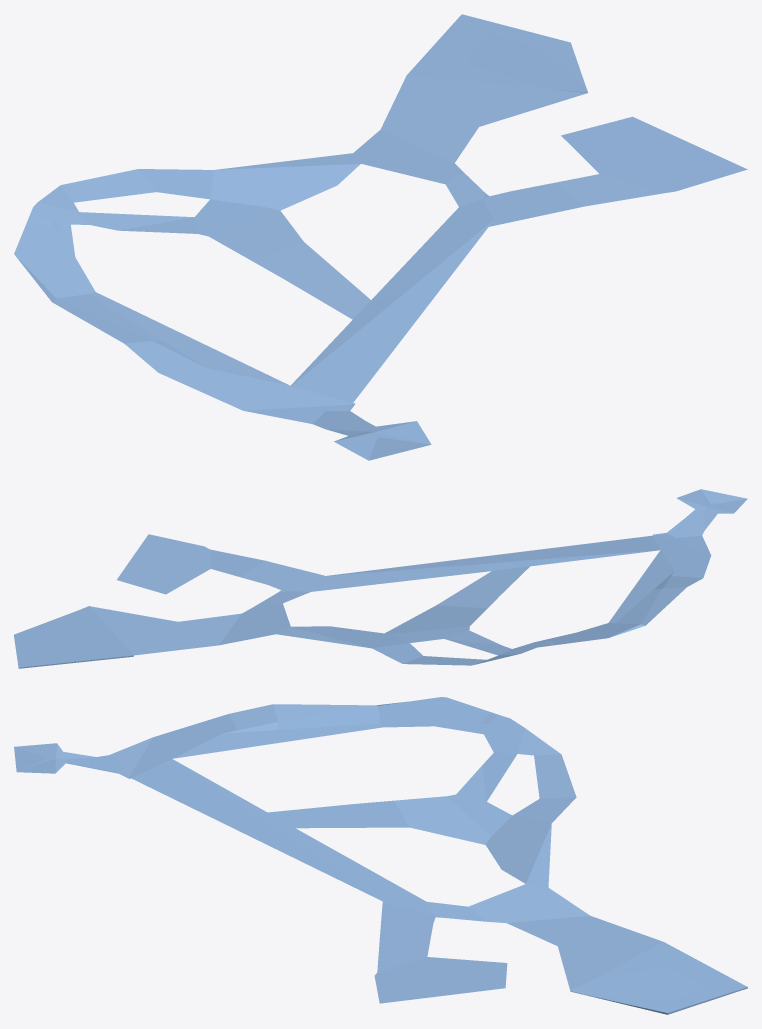
The model's file is navmesh.glb.
The picture shows the model from 3 angles, top to bottom: view 1: azimuth 30°, elevation 25°; view 2: azimuth 150°, elevation 25°; view 3: azimuth 270°, elevation 25°; orthographic projection. The views are drawn at different scales.
Parts seen in each view (by area): view 1: Cube; view 2: Cube; view 3: Cube.
Part boxes in pixels (left/top/right/bottom): Cube: left=14, top=14, right=747, bottom=460; Cube: left=14, top=489, right=747, bottom=668; Cube: left=14, top=697, right=747, bottom=1014.
Bounding box in the file's own units: 422 × 38.07 × 486.
